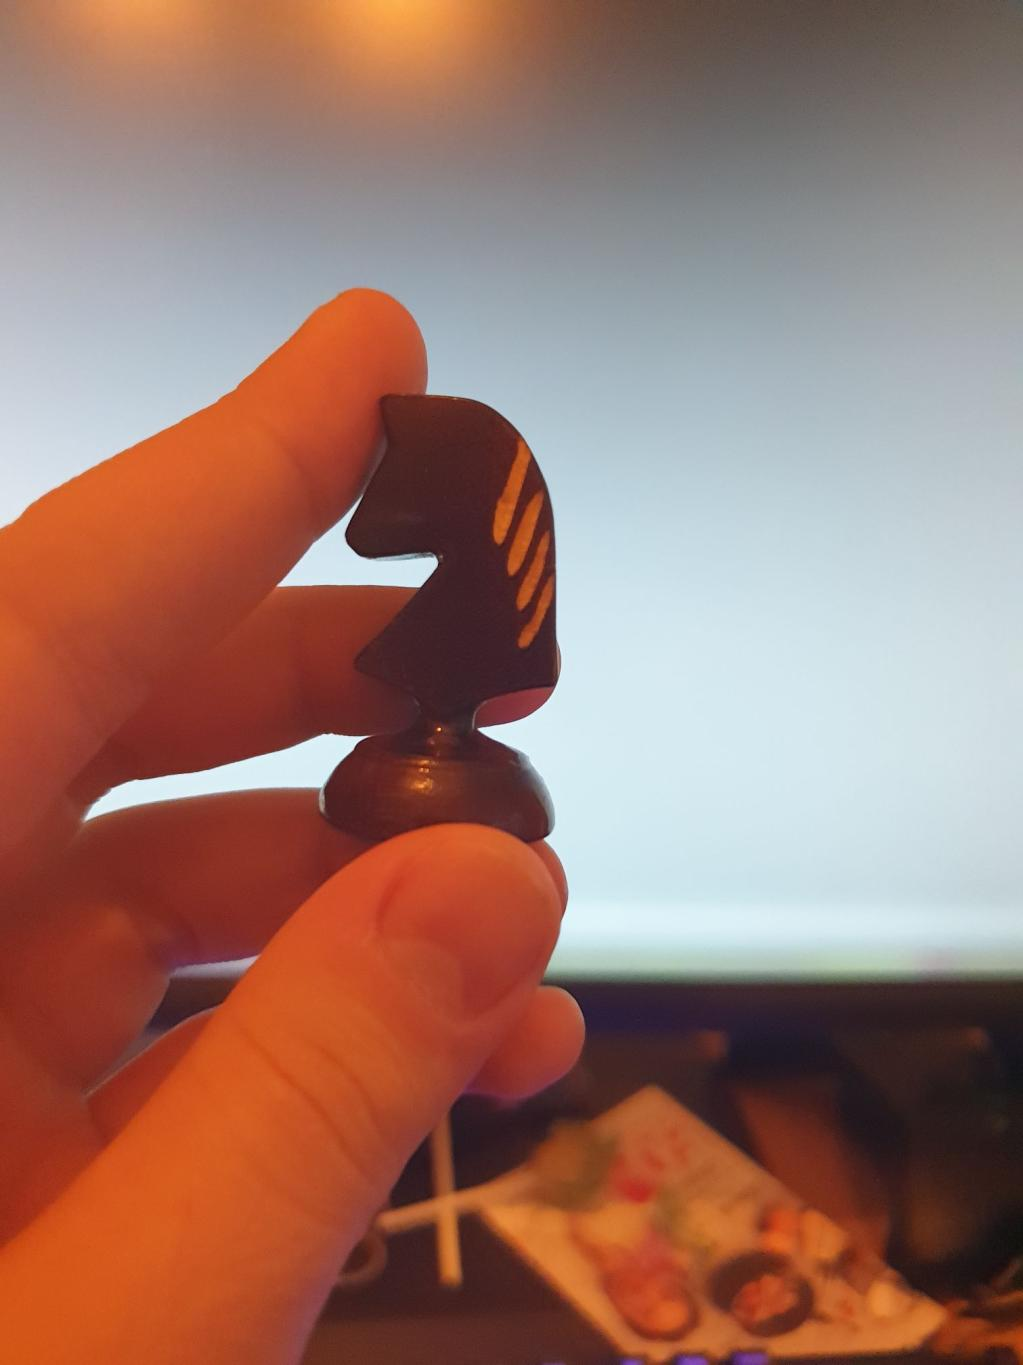bknight: (318, 394, 560, 848)
